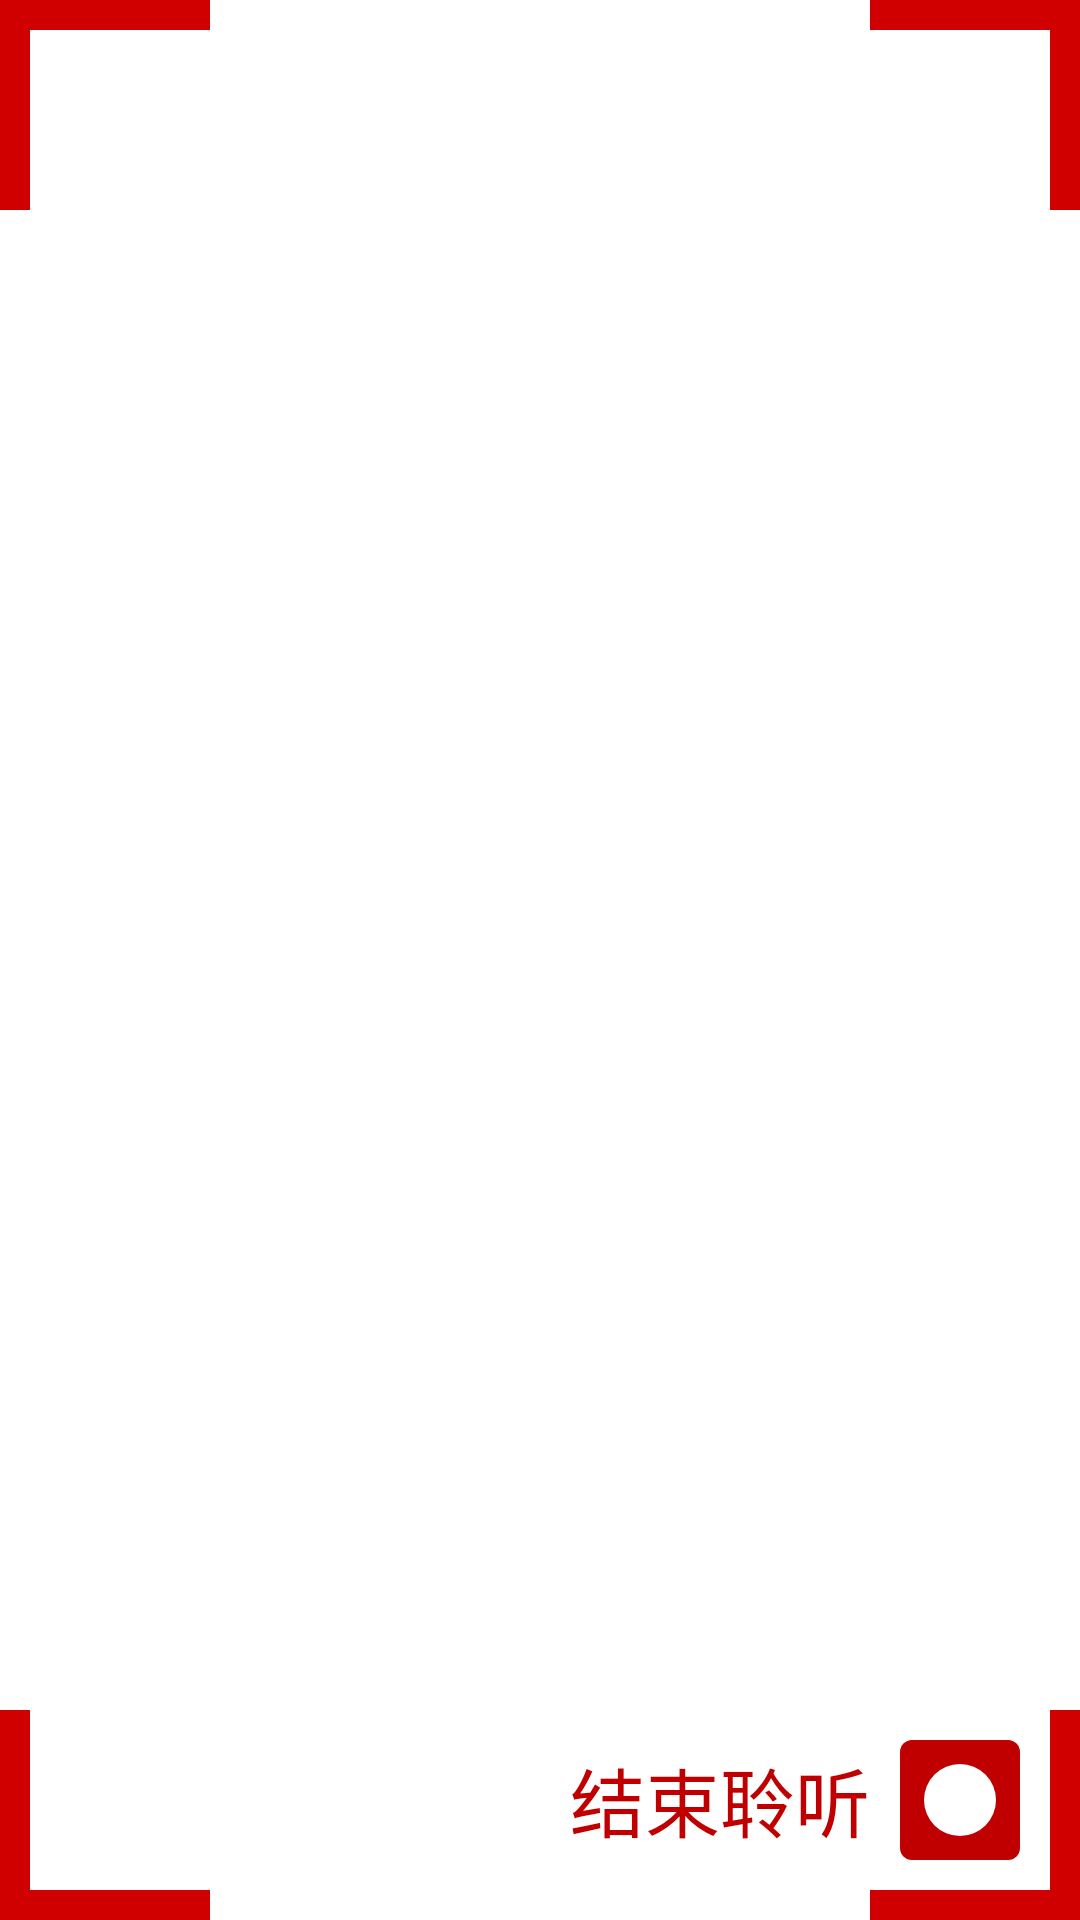

Icon click points for this 1080 × 1920 phone screenshot, format (x,y):
end recording: (975,1815)
